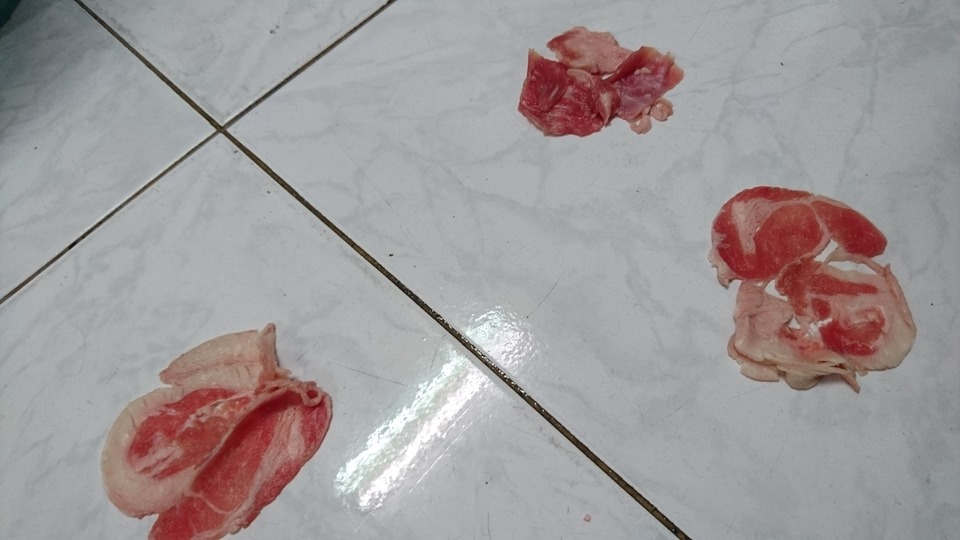restructured meat: (102, 321, 331, 537), (515, 17, 685, 139), (513, 15, 683, 137)
